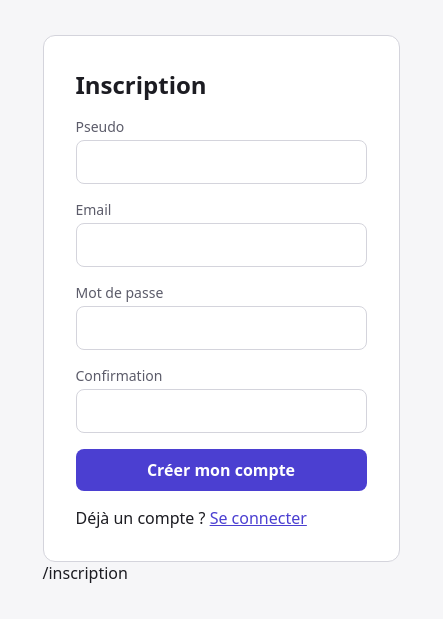
Scenario: Inscription › refuse une confirmation différente
The image size is (443, 619).
Type "Theo" into the field labelled "Pseudo" at (221, 162), box [76, 140, 366, 184]
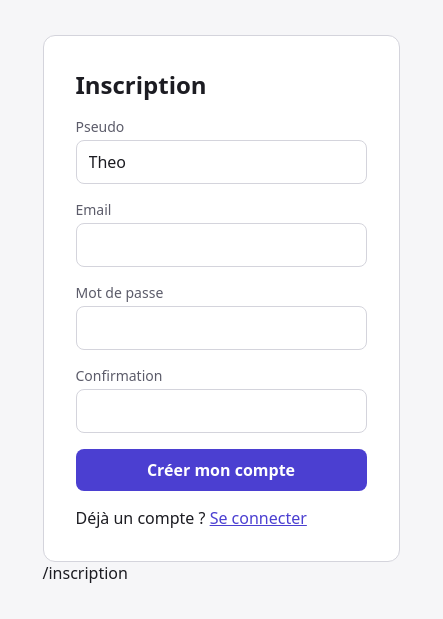
Type "theo@exemple.fr" into the field labelled "Email" at (221, 244), box [76, 222, 366, 266]
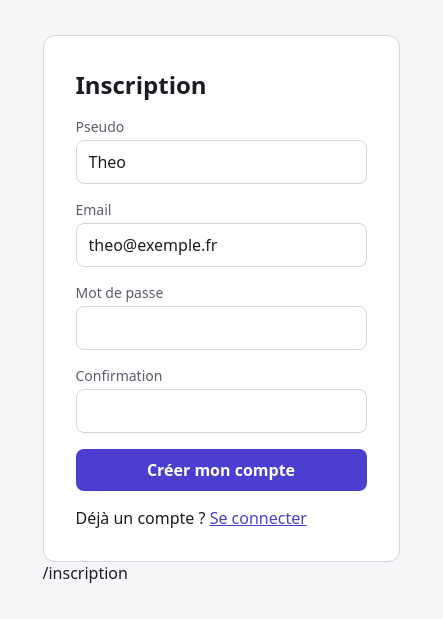
Type "motdepasse" into the password field labelled "Mot de passe" at (221, 328), box [76, 306, 366, 350]
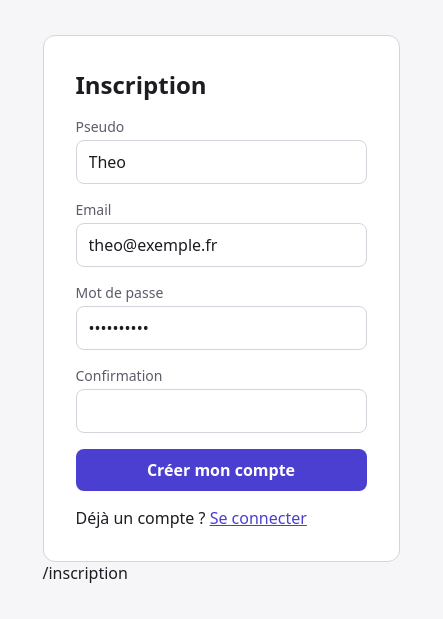
Type "autrechose" into the password field labelled "Confirmation" at (221, 410), box [76, 388, 366, 432]
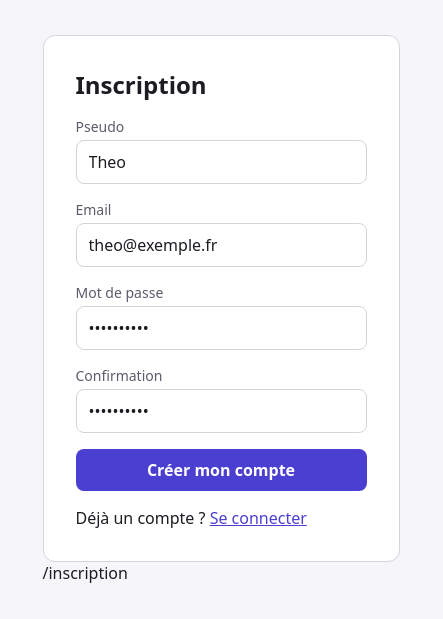
Click the button "Créer mon compte" at (221, 470), box [76, 448, 366, 490]
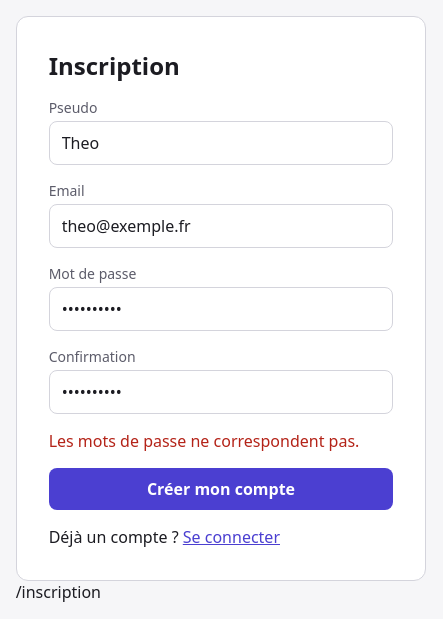
Now the message reads "Les mots de passe ne correspondent pas.", box [49, 430, 359, 452]
